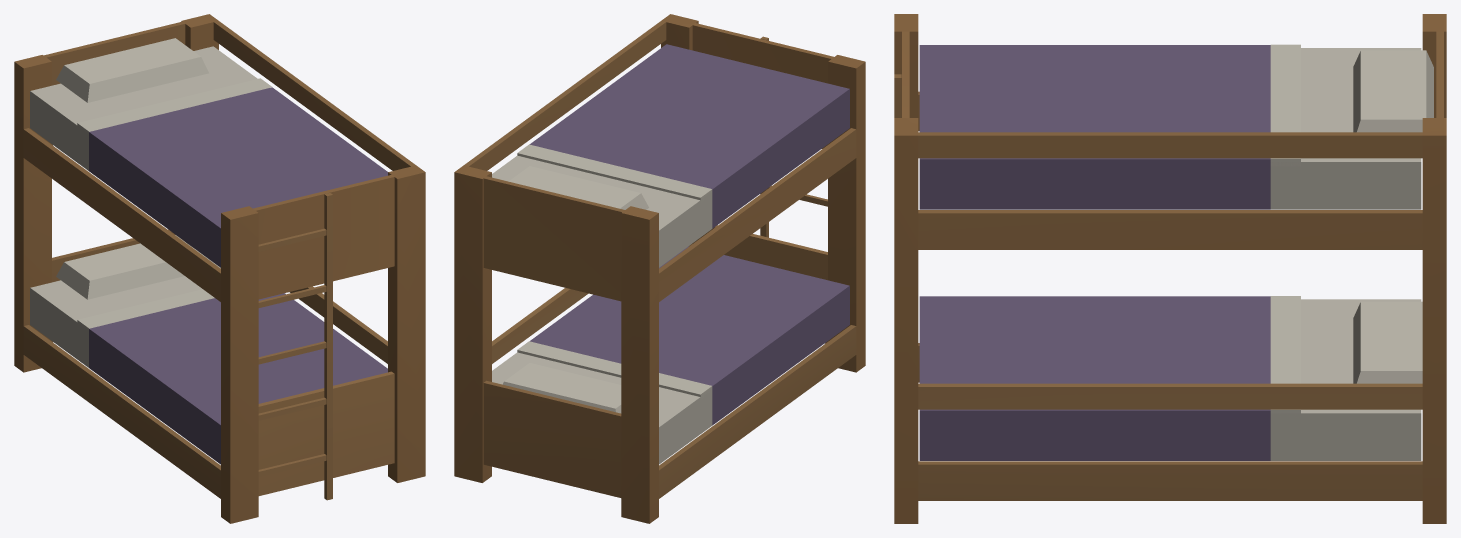
Rendered from bed.bunk.pine.glb.
The picture shows the model from 3 angles, left to right: view 1: azimuth 30°, elevation 25°; view 2: azimuth 150°, elevation 25°; view 3: azimuth 270°, elevation 25°; orthographic projection. The views are drawn at different scales.
Parts seen in each view (by area): view 1: bed_bunk_pine; view 2: bed_bunk_pine; view 3: bed_bunk_pine.
Part boxes in pixels (x1=…): bed_bunk_pine: x1=14, y1=14, x2=425, y2=523; bed_bunk_pine: x1=454, y1=14, x2=865, y2=523; bed_bunk_pine: x1=894, y1=14, x2=1446, y2=523.
Size of what is drawn, in the model's own units: 1.14 by 1.7 by 2.19.
